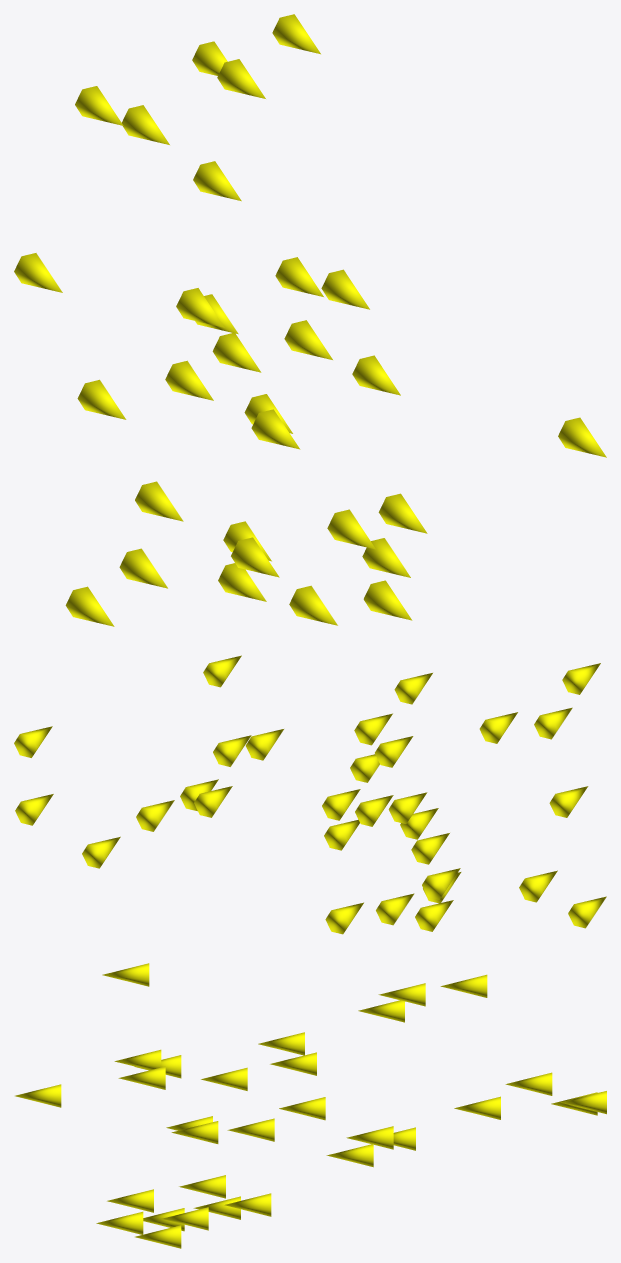
The model's file is guardian_beacons.glb.
The picture shows the model from 3 angles, top to bottom: view 1: azimuth 30°, elevation 25°; view 2: azimuth 150°, elevation 25°; view 3: azimuth 270°, elevation 25°; orthographic projection. The views are drawn at different scales.
Parts seen in each view (by area): view 1: Renderer Node; view 2: Renderer Node; view 3: Renderer Node.
Part boxes in pixels (bbox=[...]): Renderer Node: bbox=[14, 14, 606, 626]; Renderer Node: bbox=[14, 655, 606, 934]; Renderer Node: bbox=[15, 963, 606, 1248].
Bounding box in the file's own units: 168 × 129 × 250.
